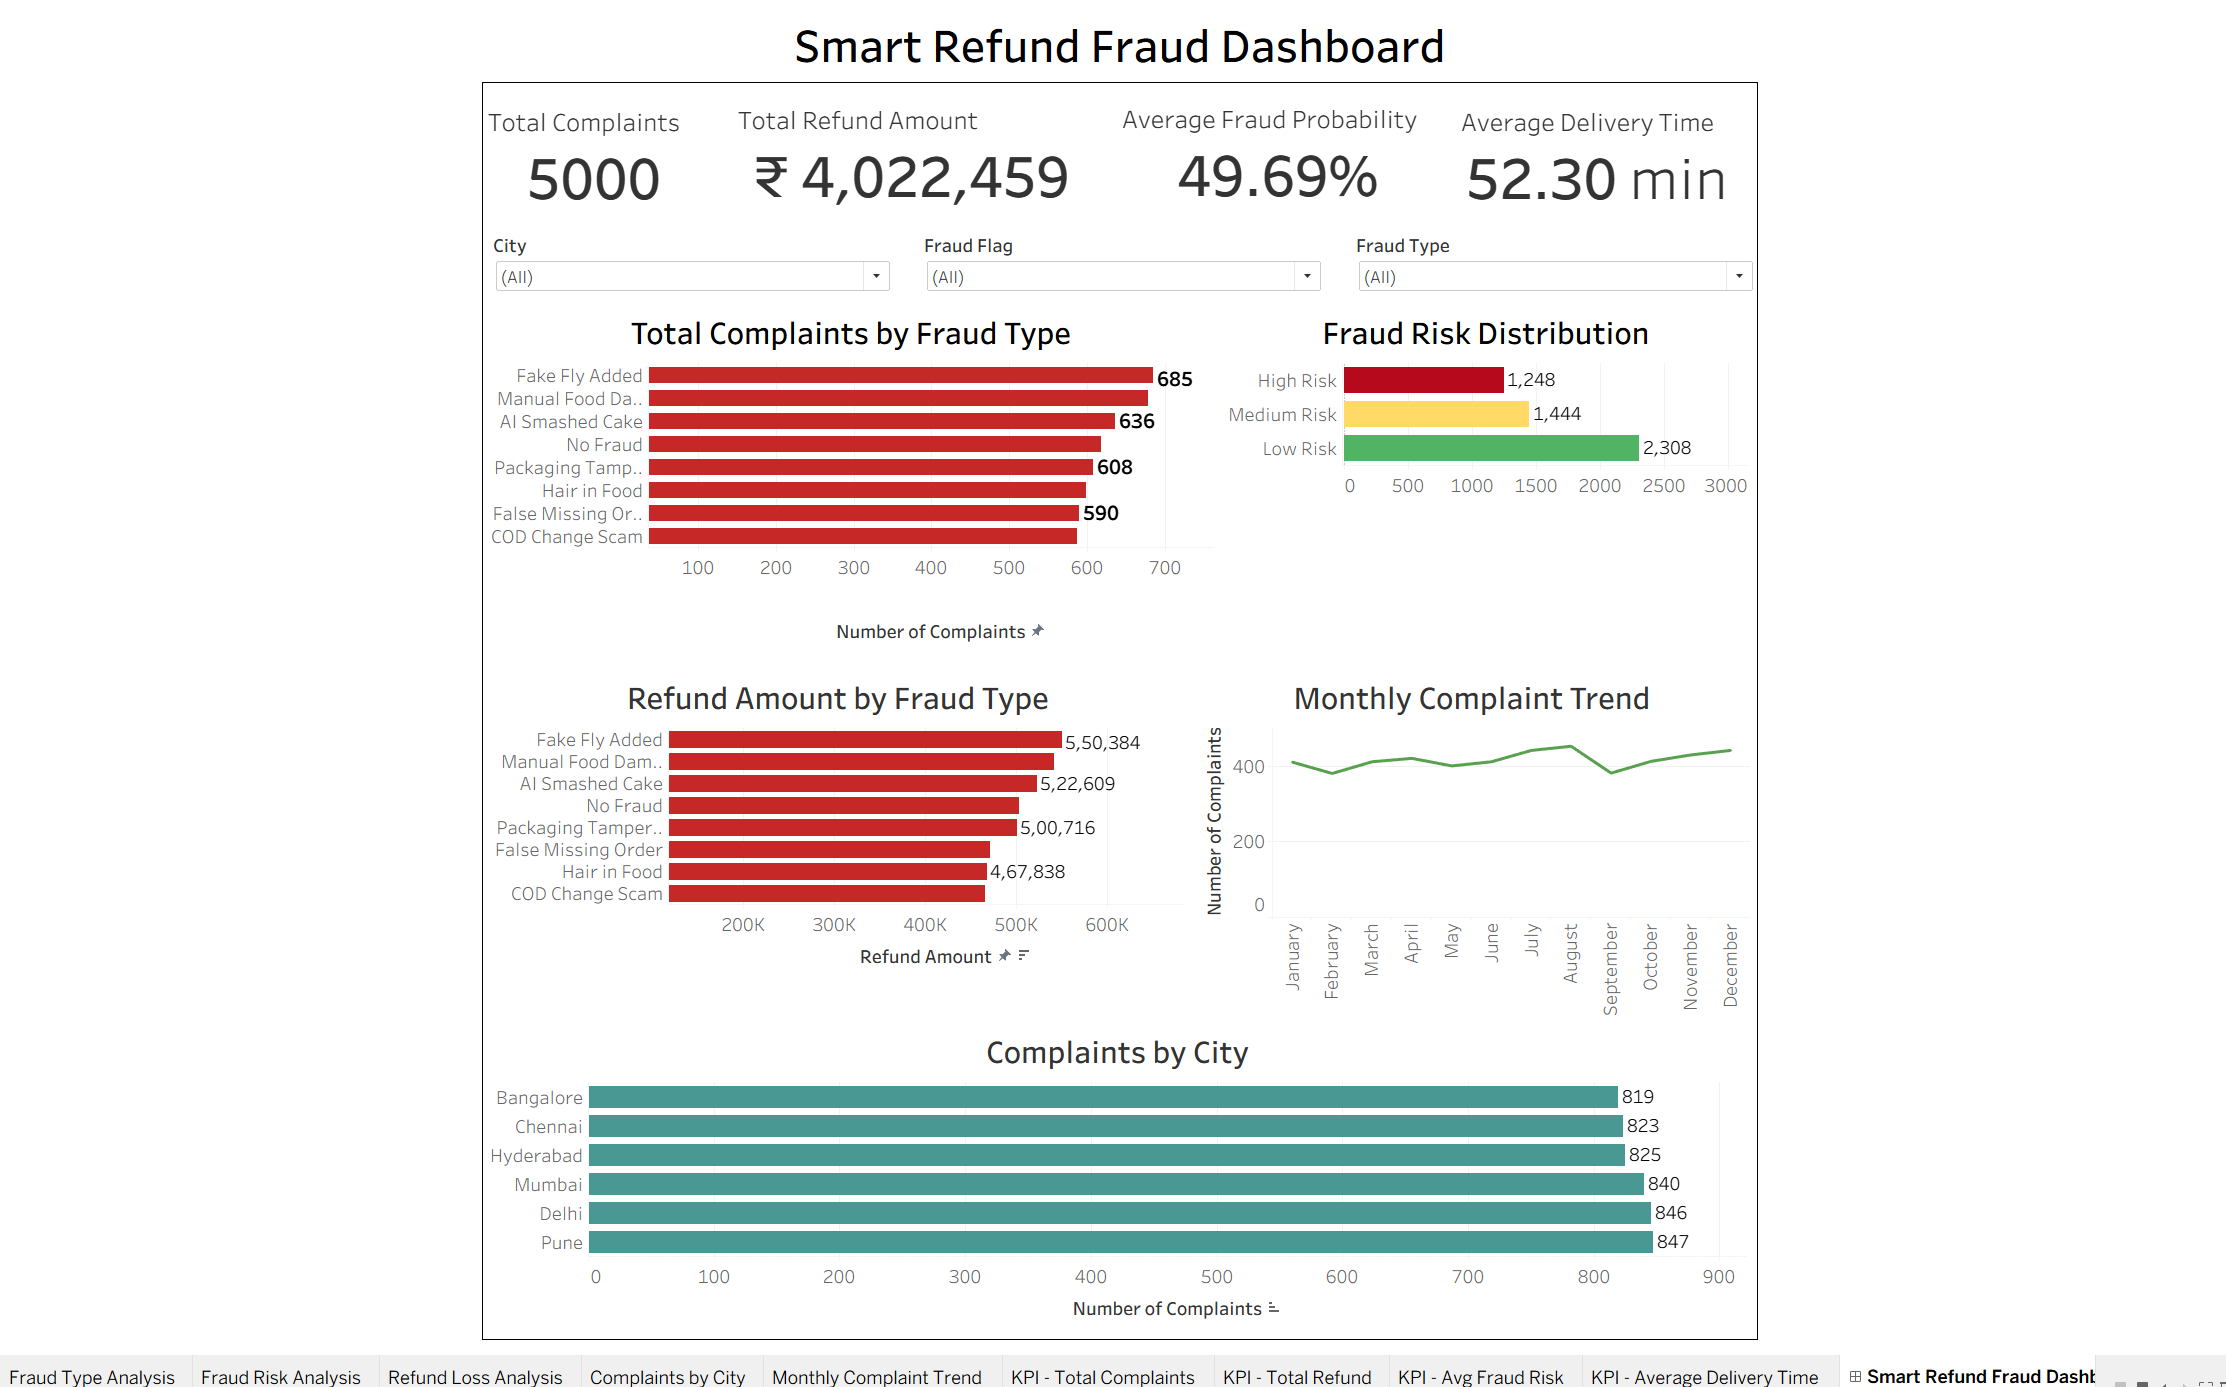

The dashboard page shown, as its layout file describes it:
{"tool":"tableau","page":{"name":"Smart Refund Fraud Dashboard","canvas":[1300,1350],"ordinal":0},"visuals":[{"type":"title","box":[8,8,1284,68]},{"type":"dashboard-object","param":"[com.tableau.addfilters].[0.0.0].[https://extensions.tableauusercontent.com/sand","box":[8,76,1284,1266]},{"type":"worksheet","title":"KPI - Total Complaints","mark":"Text","box":[14,101.2,234,131.6]},{"type":"worksheet","title":"KPI - Total Refund","mark":"Automatic","box":[264,101.2,347,131.6]},{"type":"worksheet","title":"KPI - Avg Fraud Risk","mark":"Automatic","box":[648,101.2,320,131.6]},{"type":"worksheet","title":"KPI - Average Delivery Time","mark":"Automatic","box":[987,101.2,292,131.6]},{"type":"filter","title":"Complaints by City","param":"[federated.0la2gb607ee2nl18cjl5a1bci92o].[none:city:nk]","box":[23,230,400,70]},{"type":"filter","title":"Fraud Risk Analysis","param":"[federated.0la2gb607ee2nl18cjl5a1bci92o].[none:fraud_flag:nk]","box":[454,230,400,70]},{"type":"filter","title":"Fraud Type Analysis","param":"[federated.0la2gb607ee2nl18cjl5a1bci92o].[none:fraud_type:nk]","box":[886,230,400,70]},{"type":"worksheet","title":"Fraud Type Analysis","mark":"Automatic","rows":["fraud_type"],"cols":["order_id"],"box":[18,305,726,345]},{"type":"worksheet","title":"Fraud Risk Analysis","mark":"Automatic","rows":["fraud_flag"],"cols":["order_id"],"box":[752,305,528,345]},{"type":"worksheet","title":"Refund Loss Analysis","mark":"Automatic","rows":["fraud_type"],"cols":["refund_amount"],"box":[22,670,692,345]},{"type":"worksheet","title":"Monthly Complaint Trend","mark":"Line","rows":["order_id"],"cols":["complaint_date"],"box":[724,670,556,345]},{"type":"worksheet","title":"Complaints by City","mark":"Automatic","rows":["city"],"cols":["order_id"],"box":[18,1024,1259,301]}]}

Visuals, with their boxes on the page's 1300x1350 design canvas (x1, y1, x2, y2). These are canvas units, not pixel positions in the 2226x1387 screenshot, which may show the page scaled, cropped or inside an application window:
title: (x1=8, y1=8, x2=1292, y2=76)
dashboard-object: (x1=8, y1=76, x2=1292, y2=1342)
"KPI - Total Complaints" worksheet (Text marks): (x1=14, y1=101, x2=248, y2=233)
"KPI - Total Refund" worksheet: (x1=264, y1=101, x2=611, y2=233)
"KPI - Avg Fraud Risk" worksheet: (x1=648, y1=101, x2=968, y2=233)
"KPI - Average Delivery Time" worksheet: (x1=987, y1=101, x2=1279, y2=233)
"Complaints by City" filter: (x1=23, y1=230, x2=423, y2=300)
"Fraud Risk Analysis" filter: (x1=454, y1=230, x2=854, y2=300)
"Fraud Type Analysis" filter: (x1=886, y1=230, x2=1286, y2=300)
"Fraud Type Analysis" worksheet: (x1=18, y1=305, x2=744, y2=650)
"Fraud Risk Analysis" worksheet: (x1=752, y1=305, x2=1280, y2=650)
"Refund Loss Analysis" worksheet: (x1=22, y1=670, x2=714, y2=1015)
"Monthly Complaint Trend" worksheet (Line marks): (x1=724, y1=670, x2=1280, y2=1015)
"Complaints by City" worksheet: (x1=18, y1=1024, x2=1277, y2=1325)
